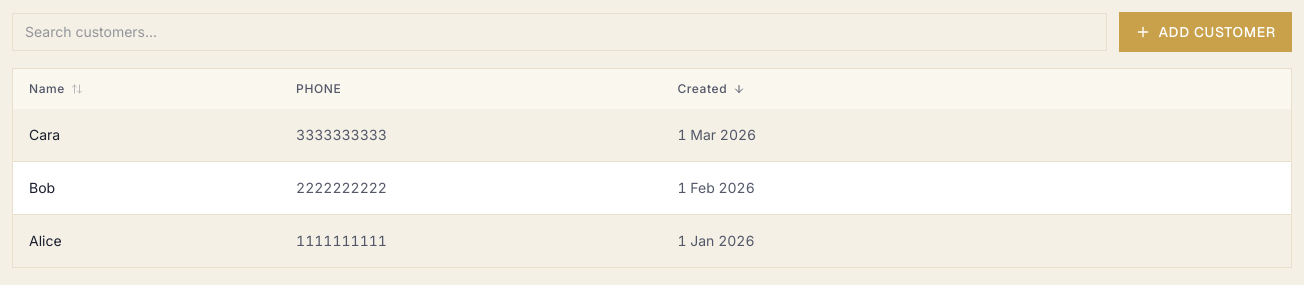
CustomersTable › search › filters by phone number
Type "2222" into the search field with placeholder "Search customers…" at (559, 32), box [12, 13, 1107, 51]
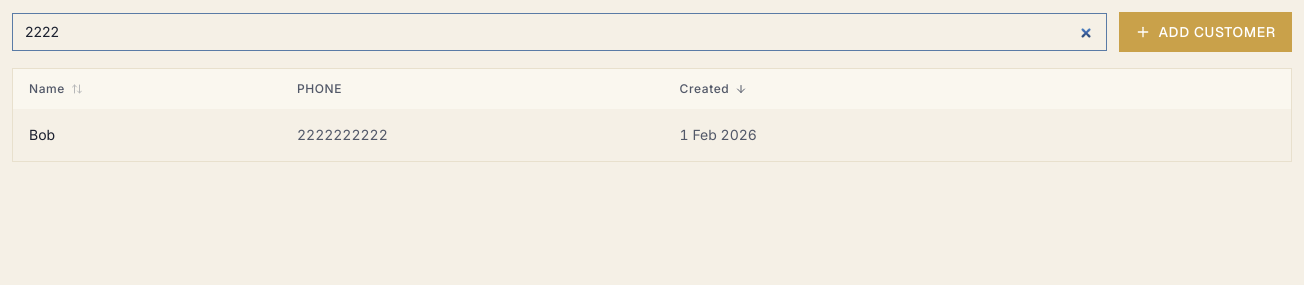
Expected: the text "Bob" is shown, [29, 126, 55, 143]
Expected: the text "Alice" is gone
Expected: the text "Cara" is gone
